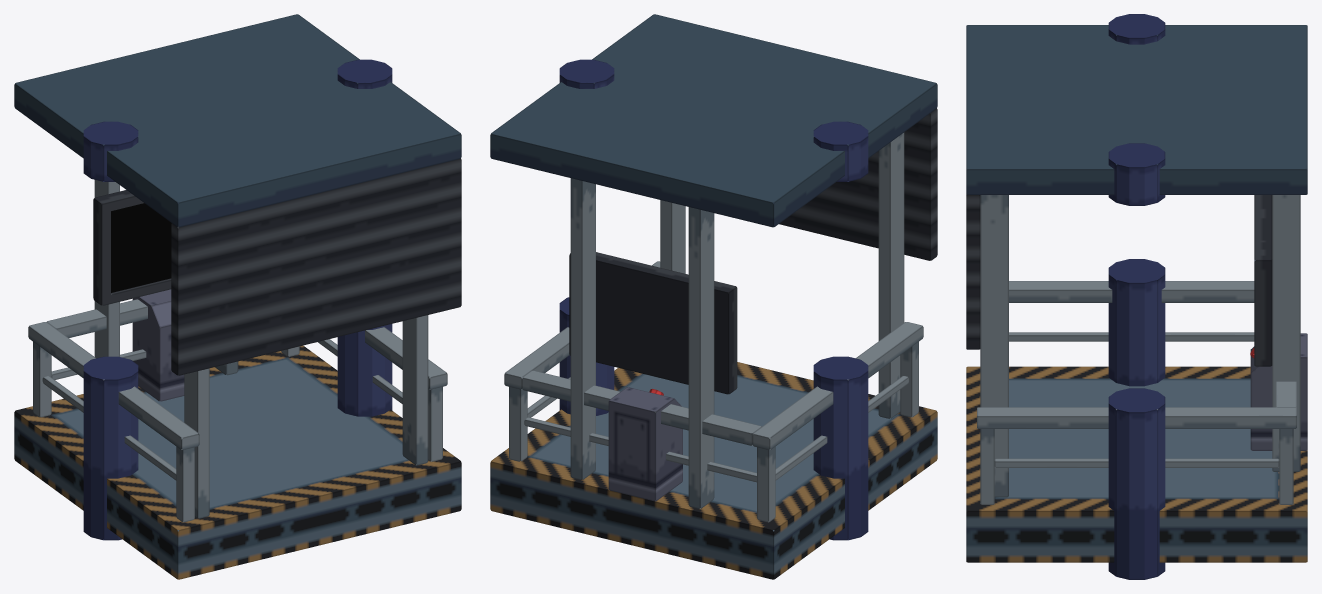
File: Elevator.fbx
3 views of the same model, side by side, from view 1: azimuth 30°, elevation 25°; view 2: azimuth 150°, elevation 25°; view 3: azimuth 270°, elevation 25° (orthographic). The views are drawn at different scales.
Parts seen in each view (by area): view 1: Roof, Door, Beams, Cylinders, TV, ButtonBase; view 2: Roof, Beams, TV, Cylinders, Door, ButtonBase; view 3: Roof, Beams, Cylinders, TV, ButtonBase, Door.
Boxes of the visible parts, bbox=[...] form: Roof: bbox=[14, 14, 461, 579]; Door: bbox=[171, 158, 461, 375]; Beams: bbox=[28, 180, 447, 522]; Cylinders: bbox=[83, 59, 392, 540]; TV: bbox=[93, 190, 171, 305]; ButtonBase: bbox=[132, 289, 184, 401]; Roof: bbox=[490, 14, 937, 579]; Beams: bbox=[504, 132, 923, 522]; TV: bbox=[569, 252, 737, 394]; Cylinders: bbox=[559, 59, 868, 540]; Door: bbox=[779, 108, 937, 260]; ButtonBase: bbox=[608, 387, 682, 501]; Roof: bbox=[966, 25, 1307, 562]; Beams: bbox=[977, 195, 1300, 504]; Cylinders: bbox=[1108, 14, 1165, 579]; TV: bbox=[1254, 195, 1272, 366]; ButtonBase: bbox=[1250, 333, 1307, 450]; Door: bbox=[966, 169, 980, 349].
Bounding box in the file's own units: 638 × 800 × 600.
